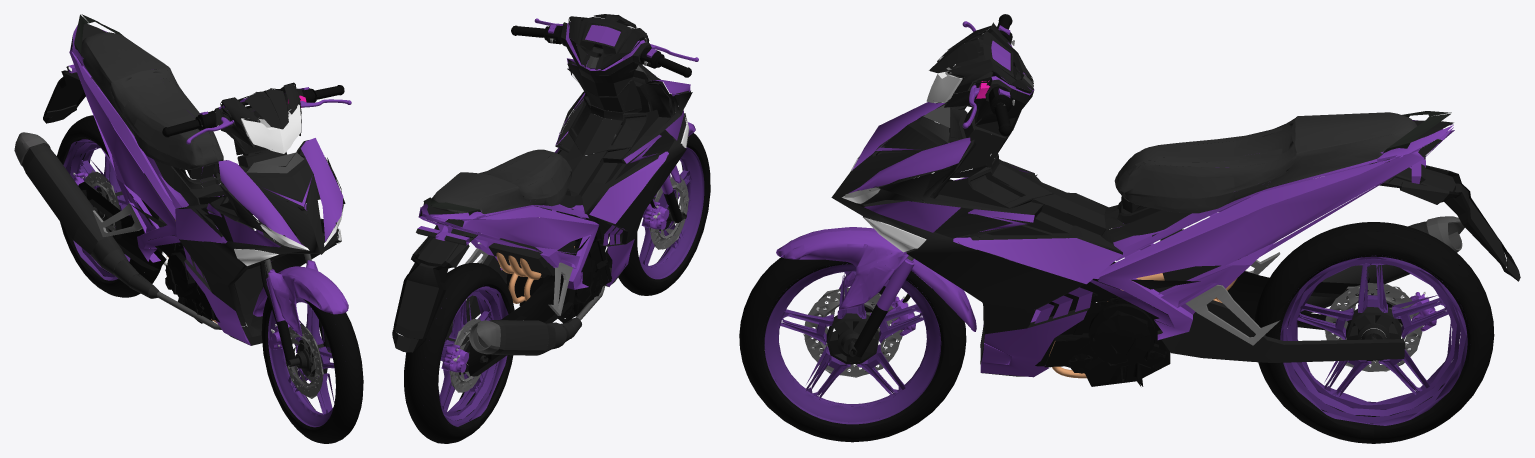
File: exciter.glb
3 renders of one model, left to right at view 1: azimuth 30°, elevation 25°; view 2: azimuth 150°, elevation 25°; view 3: azimuth 270°, elevation 25°, orthographic. The views are drawn at different scales.
Parts seen in each view (by area): view 1: ReferencePart.026, ReferencePart.004, ReferencePart.030, ReferencePart.005, ReferencePart.048, ReferencePart.031, ReferencePart.027, ReferencePart.047, ReferencePart.061, ReferencePart, ReferencePart.049, ReferencePart.034 (+15 smaller); view 2: ReferencePart.026, ReferencePart.030, ReferencePart.061, ReferencePart.047, ReferencePart.004, ReferencePart.033, ReferencePart.027, ReferencePart.005, ReferencePart.048, ReferencePart.060, ReferencePart.049, ReferencePart (+15 smaller); view 3: ReferencePart.026, ReferencePart.030, ReferencePart.004, ReferencePart.061, ReferencePart.048, ReferencePart.047, ReferencePart.060, ReferencePart, ReferencePart.049, ReferencePart.031, ReferencePart.028, ReferencePart.027 (+15 smaller).
Boxes of the visible parts, x1=… form: ReferencePart.026: x1=175, y1=138, x2=345, y2=345; ReferencePart.004: x1=81, y1=32, x2=223, y2=169; ReferencePart.030: x1=68, y1=14, x2=223, y2=262; ReferencePart.005: x1=22, y1=144, x2=221, y2=329; ReferencePart.048: x1=261, y1=297, x2=363, y2=443; ReferencePart.031: x1=253, y1=260, x2=348, y2=336; ReferencePart.027: x1=214, y1=82, x2=304, y2=155; ReferencePart.047: x1=154, y1=149, x2=307, y2=221; ReferencePart.061: x1=57, y1=115, x2=162, y2=297; ReferencePart: x1=158, y1=235, x2=240, y2=323; ReferencePart.049: x1=268, y1=297, x2=333, y2=427; ReferencePart.034: x1=78, y1=181, x2=166, y2=270; ReferencePart.026: x1=536, y1=58, x2=692, y2=286; ReferencePart.030: x1=418, y1=197, x2=599, y2=289; ReferencePart.061: x1=404, y1=263, x2=514, y2=443; ReferencePart.047: x1=530, y1=75, x2=659, y2=218; ReferencePart.004: x1=431, y1=149, x2=571, y2=213; ReferencePart.033: x1=392, y1=222, x2=479, y2=352; ReferencePart.027: x1=561, y1=14, x2=651, y2=96; ReferencePart.005: x1=478, y1=285, x2=605, y2=355; ReferencePart.048: x1=609, y1=133, x2=710, y2=295; ReferencePart.060: x1=438, y1=286, x2=508, y2=426; ReferencePart.049: x1=639, y1=147, x2=704, y2=279; ReferencePart: x1=506, y1=211, x2=611, y2=323; ReferencePart.026: x1=831, y1=102, x2=1122, y2=377; ReferencePart.030: x1=1090, y1=111, x2=1454, y2=339; ReferencePart.004: x1=1114, y1=112, x2=1416, y2=213; ReferencePart.061: x1=1254, y1=222, x2=1494, y2=443; ReferencePart.048: x1=739, y1=257, x2=966, y2=442; ReferencePart.047: x1=927, y1=107, x2=1191, y2=244; ReferencePart.060: x1=1280, y1=255, x2=1467, y2=425; ReferencePart: x1=1035, y1=262, x2=1170, y2=386; ReferencePart.049: x1=764, y1=263, x2=941, y2=424; ReferencePart.031: x1=776, y1=227, x2=976, y2=331; ReferencePart.028: x1=1157, y1=300, x2=1404, y2=362; ReferencePart.027: x1=929, y1=22, x2=1034, y2=137.
Size of the model in its own units: 0.6679 by 1.1 by 1.93.
Materials: 20 (5 with a texture image).
